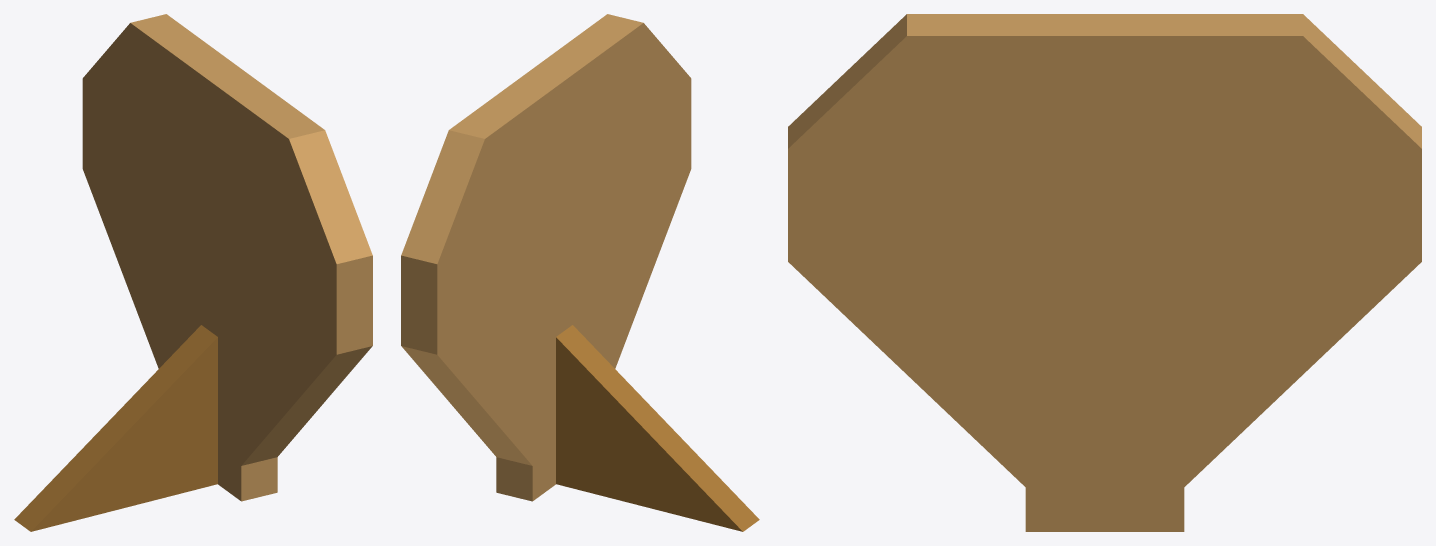
Rendered from (Multi)CarboardCutout5WIP.fbx.
3 views of the same model, side by side, from view 1: azimuth 30°, elevation 25°; view 2: azimuth 150°, elevation 25°; view 3: azimuth 270°, elevation 25° (orthographic). The views are drawn at different scales.
Parts seen in each view (by area): view 1: Cube; view 2: Cube; view 3: Cube.
Boxes of the visible parts, box(x1,y1,x2,y2) form: Cube: box(14, 14, 372, 531); Cube: box(401, 14, 759, 531); Cube: box(788, 14, 1421, 531).
Bounding box in the file's own units: 216 × 370 × 426.
